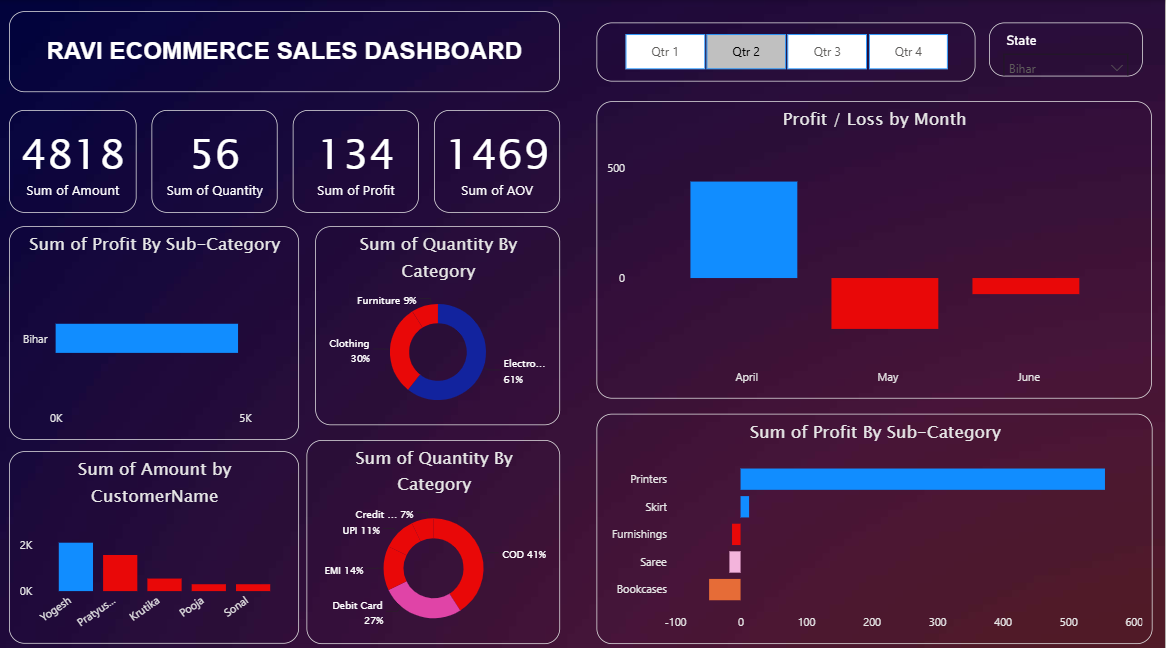

The dashboard page shown, as its layout file describes it:
{"tool":"powerbi","page":{"name":"Page 1","canvas":[1280,720],"ordinal":0},"visuals":[{"type":"columnChart","title":" Profit / Loss by Month","fields":{"Category":["Orders.Order Date.Variation.Date Hierarchy.Month"],"Y":["Sum(Details.Profit)"]},"box":[655.9,111.1,609.3,326.6],"z":0},{"type":"barChart","title":"Sum of Profit By Sub-Category","fields":{"Y":["Sum(Details.Profit)"],"Category":["Details.Sub-Category"]},"box":[655.9,454.2,610.6,252.5],"z":1000},{"type":"donutChart","title":"Sum of Quantity By Category","fields":{"Y":["Sum(Details.Quantity)"],"Category":["Details.Category"]},"box":[347.2,248.4,269,218.2],"z":2000},{"type":"donutChart","title":"Sum of Quantity By Category","fields":{"Y":["Sum(Details.Quantity)"],"Category":["Details.PaymentMode"]},"box":[337.6,483,278.6,223.7],"z":3000},{"type":"card","title":"Sum of Quantity By Category","fields":{"Values":["Sum(Details.Amount)"]},"box":[11,120.8,140,112.5],"z":4000},{"type":"card","title":"Sum of Quantity By Category","fields":{"Values":["Sum(Details.Quantity)"]},"box":[167,120.8,138.6,112.5],"z":5000},{"type":"card","title":"Sum of Quantity By Category","fields":{"Values":["Sum(Details.Profit)"]},"box":[322,120.8,138.6,112.5],"z":6000},{"type":"card","title":"Sum of Quantity By Category","fields":{"Values":["Sum(Details.AOV)"]},"box":[477.5,120.8,138.6,112.5],"z":7000},{"type":"barChart","title":"Sum of Profit By Sub-Category","fields":{"Category":["Orders.State"],"Y":["Sum(Details.Amount)"]},"box":[11,248.4,318.4,234.6],"z":8000},{"type":"columnChart","fields":{"Category":["Orders.CustomerName"],"Y":["Sum(Details.Amount)"]},"box":[11,495.4,318.4,211.3],"z":9000},{"type":"textbox","box":[11,12.3,605.1,89.2],"z":10000},{"type":"slicer","fields":{"Values":["Orders.Order Date.Variation.Date Hierarchy.Quarter"]},"box":[655.9,24.7,415.8,64.5],"z":11000},{"type":"slicer","fields":{"Values":["Orders.State"]},"box":[1086.8,24.7,168.8,59],"z":12000}]}

Visuals, with their boxes in screenshot pixels (x1, y1, x2, y2), scaled from the page's 1280x720 canvas onto the 1166x648 screenshot:
" Profit / Loss by Month" columnChart: left=597, top=100, right=1153, bottom=394
"Sum of Profit By Sub-Category" barChart: left=597, top=409, right=1154, bottom=636
"Sum of Quantity By Category" donutChart: left=316, top=224, right=561, bottom=420
"Sum of Quantity By Category" donutChart: left=308, top=435, right=561, bottom=636
"Sum of Quantity By Category" card: left=10, top=109, right=138, bottom=210
"Sum of Quantity By Category" card: left=152, top=109, right=278, bottom=210
"Sum of Quantity By Category" card: left=293, top=109, right=420, bottom=210
"Sum of Quantity By Category" card: left=435, top=109, right=561, bottom=210
"Sum of Profit By Sub-Category" barChart: left=10, top=224, right=300, bottom=435
columnChart - Orders.CustomerName x Sum(Details.Amount): left=10, top=446, right=300, bottom=636
textbox: left=10, top=11, right=561, bottom=91
slicer - Orders.Order Date.Variation.Date Hierarchy.Quarter: left=597, top=22, right=976, bottom=80
slicer - Orders.State: left=990, top=22, right=1144, bottom=75
